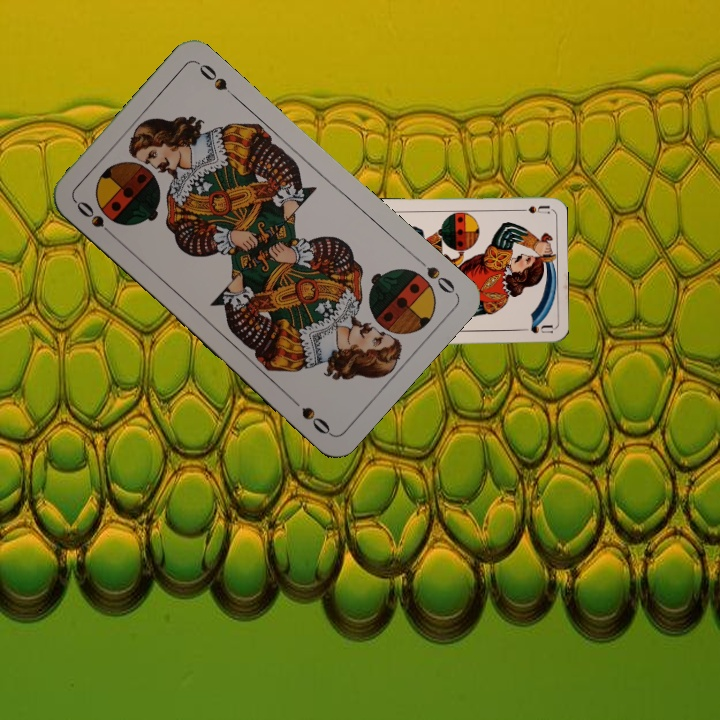SO: (71, 197, 119, 242), (410, 253, 458, 297)
SU: (510, 202, 551, 216)
